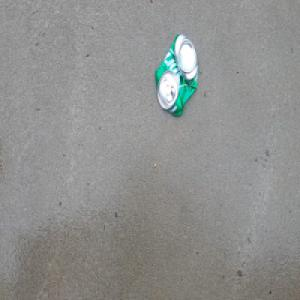SodaCan: (154, 31, 199, 118)
